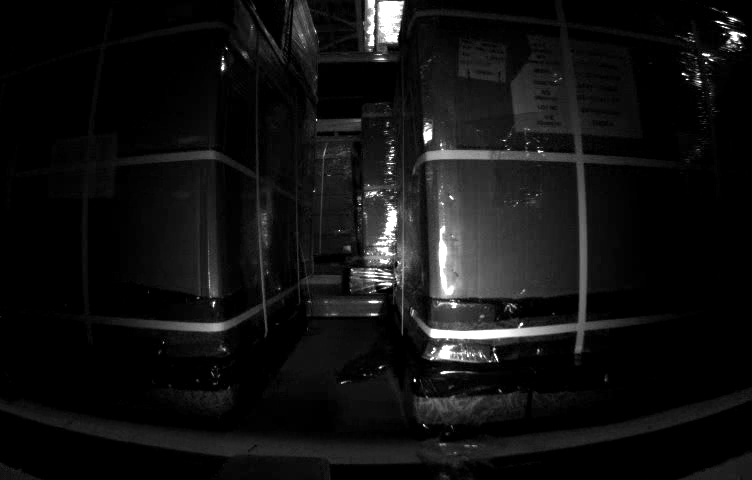True Barcode: (457, 36, 509, 85)
